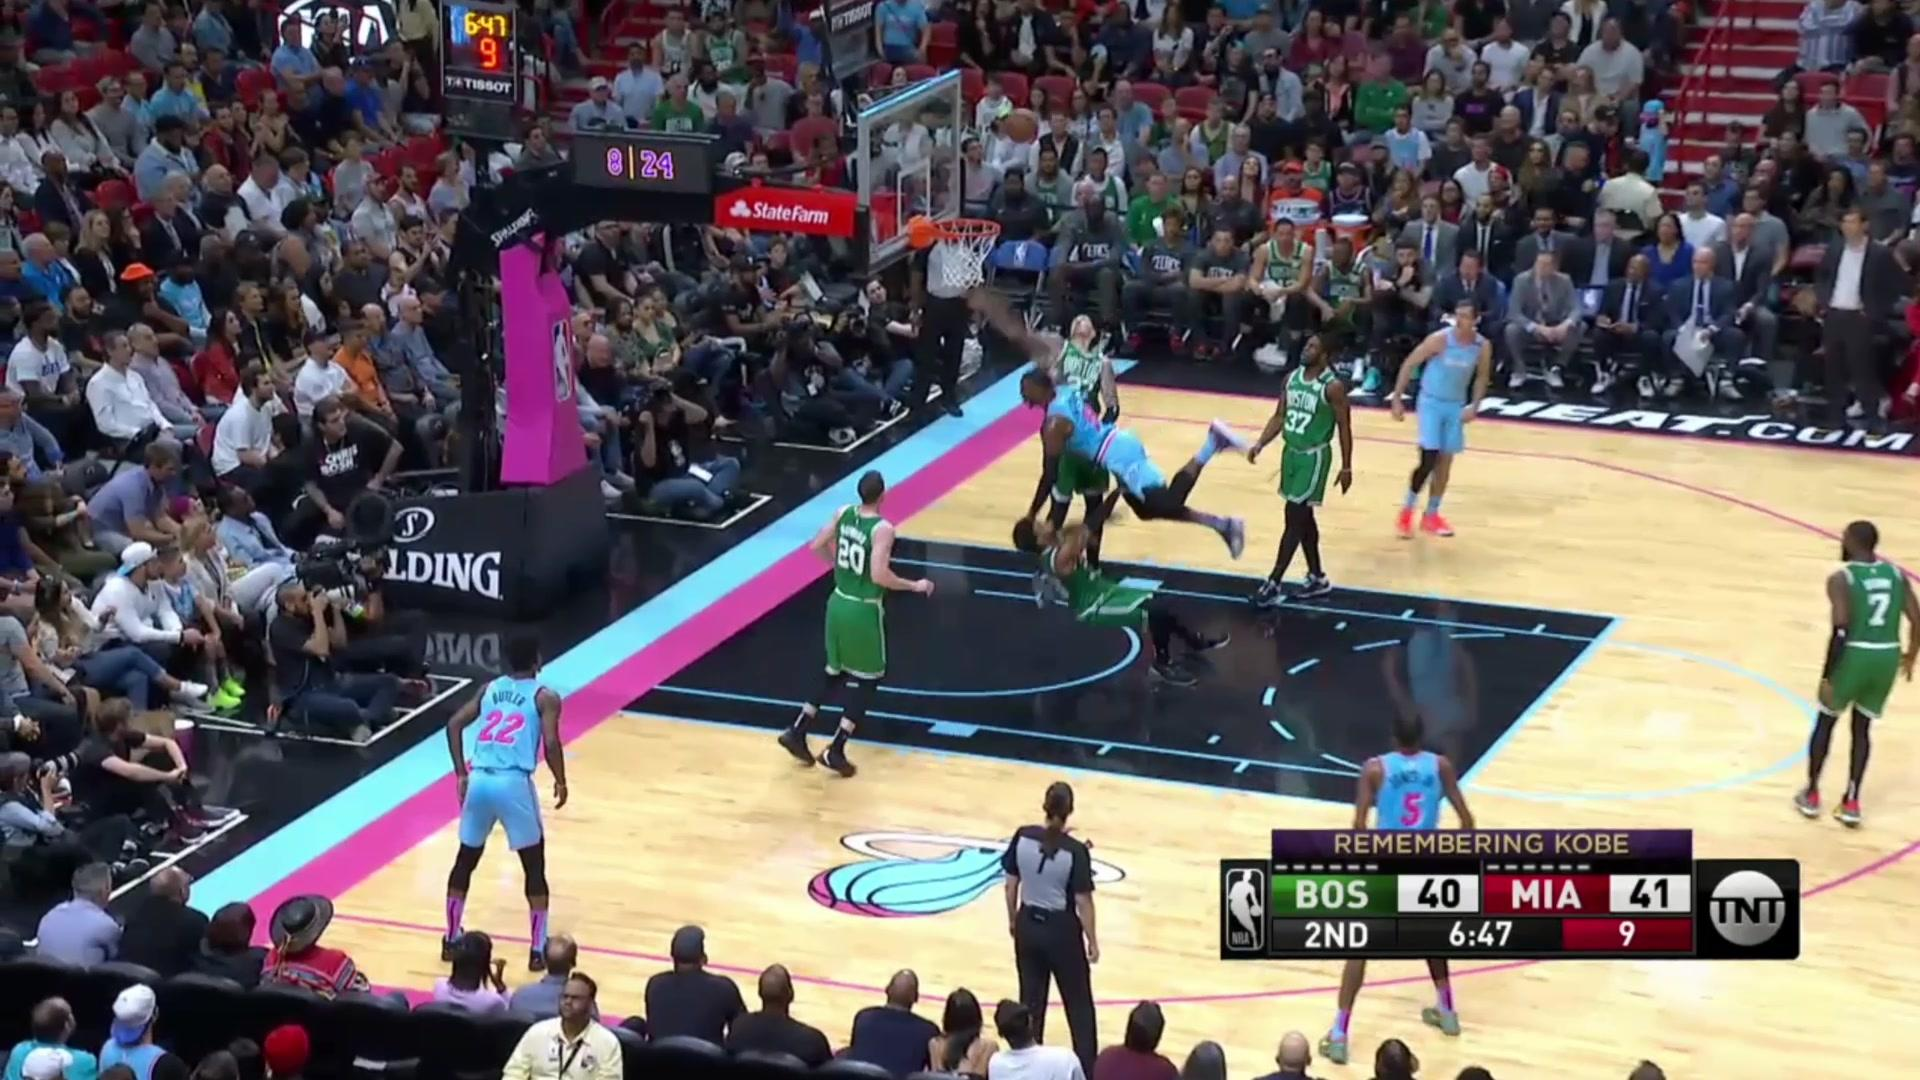foul: (1015, 364, 1205, 684)
